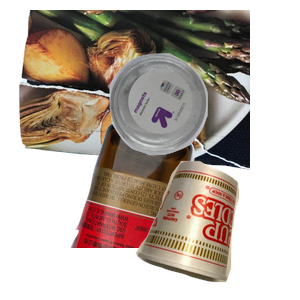glass: (68, 120, 255, 300)
paper: (16, 10, 256, 172)
plastic: (107, 51, 300, 199)
trash: (133, 158, 300, 300)
